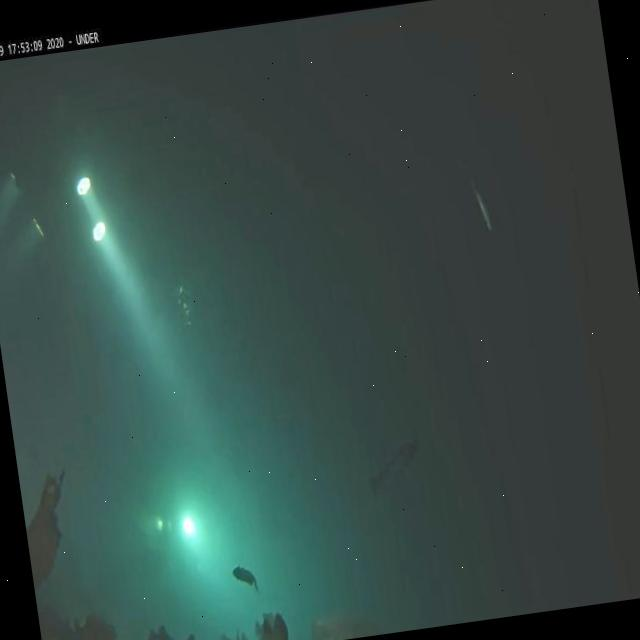fish: (364, 439, 424, 500), (466, 172, 496, 236), (231, 560, 260, 594)
